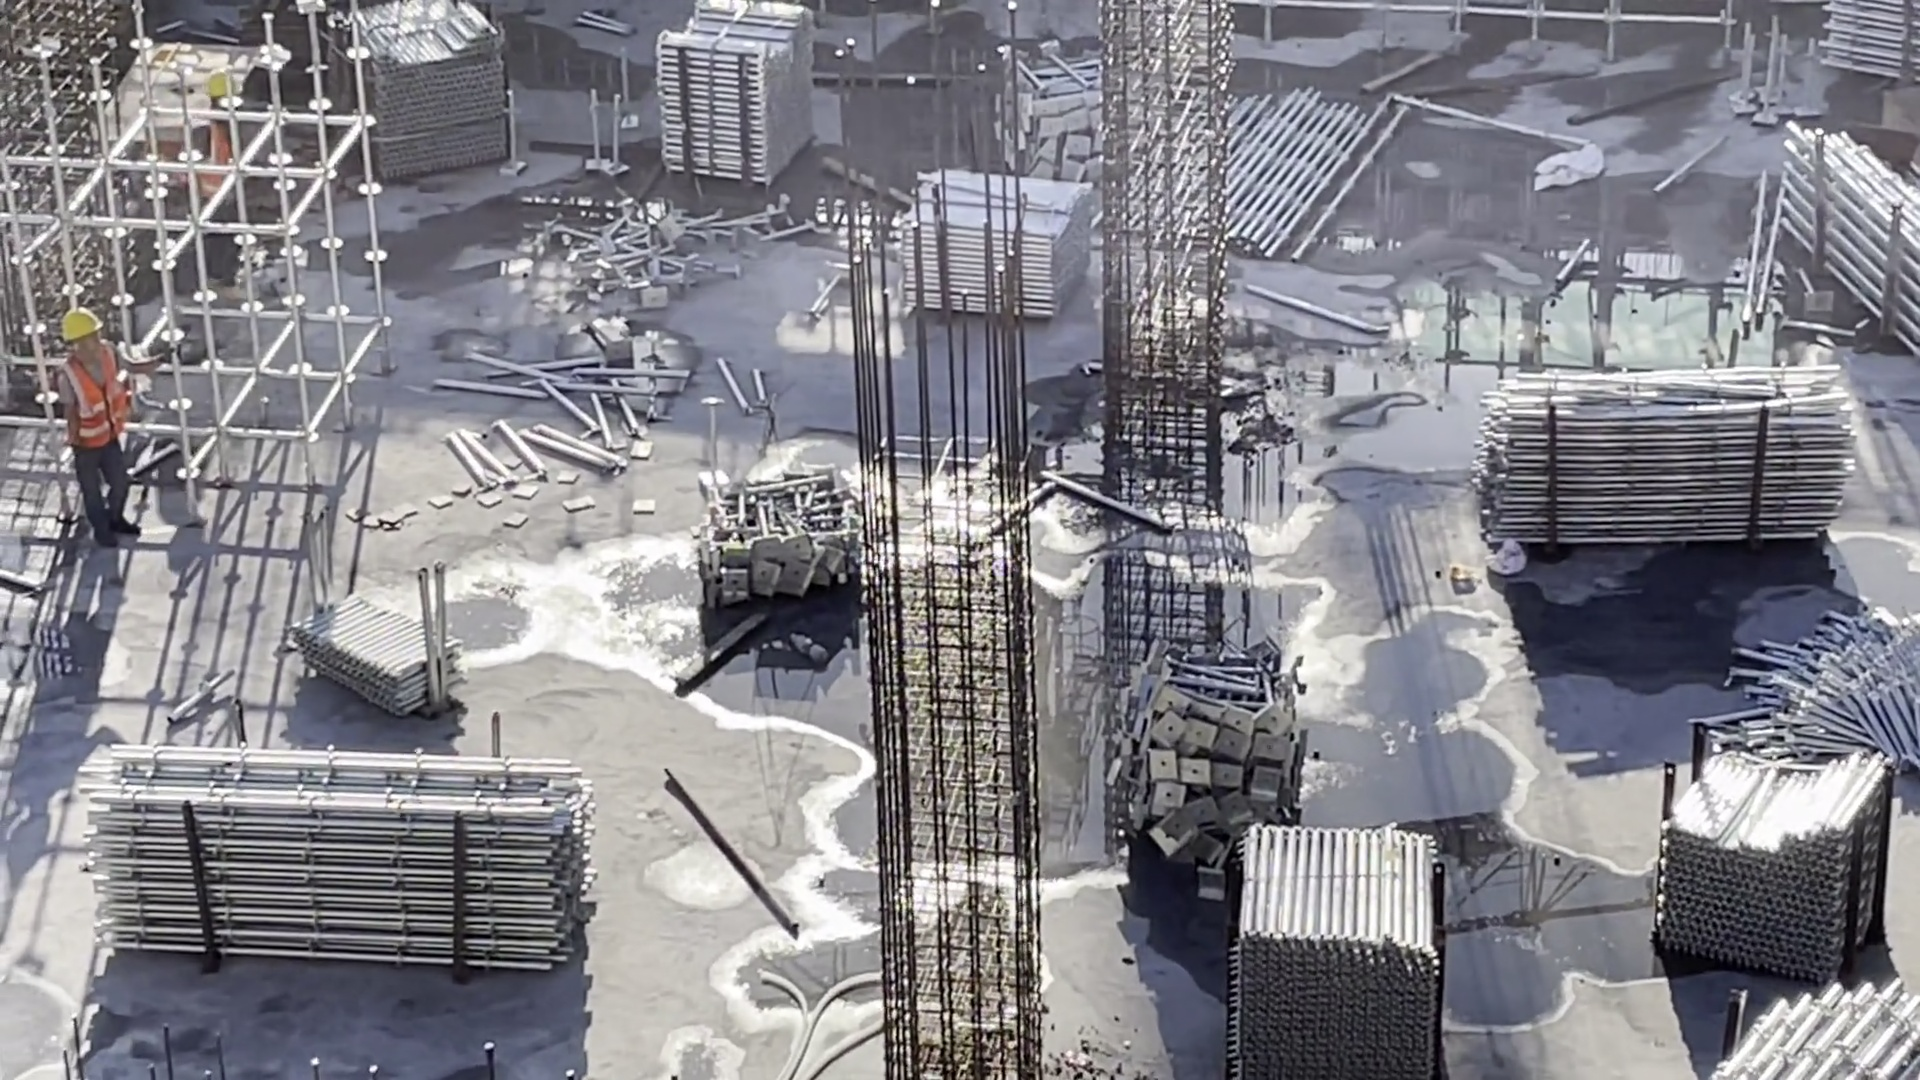cutter: (85, 35, 271, 197)
helmet: (59, 309, 96, 349), (208, 64, 243, 102)
person: (49, 306, 160, 538), (195, 63, 258, 282)
scaffold: (86, 747, 594, 973), (1476, 357, 1857, 550), (1219, 833, 1454, 1066), (1667, 740, 1900, 954), (1110, 649, 1307, 870), (1776, 122, 1920, 345), (1210, 99, 1425, 243), (1721, 602, 1920, 752), (647, 7, 821, 176), (706, 446, 881, 613), (906, 166, 1087, 322), (348, 1, 505, 173), (976, 49, 1135, 199), (296, 583, 459, 724), (1704, 969, 1905, 1080), (583, 202, 773, 298), (1815, 9, 1920, 83)
vest: (48, 350, 134, 448), (180, 111, 243, 198)
